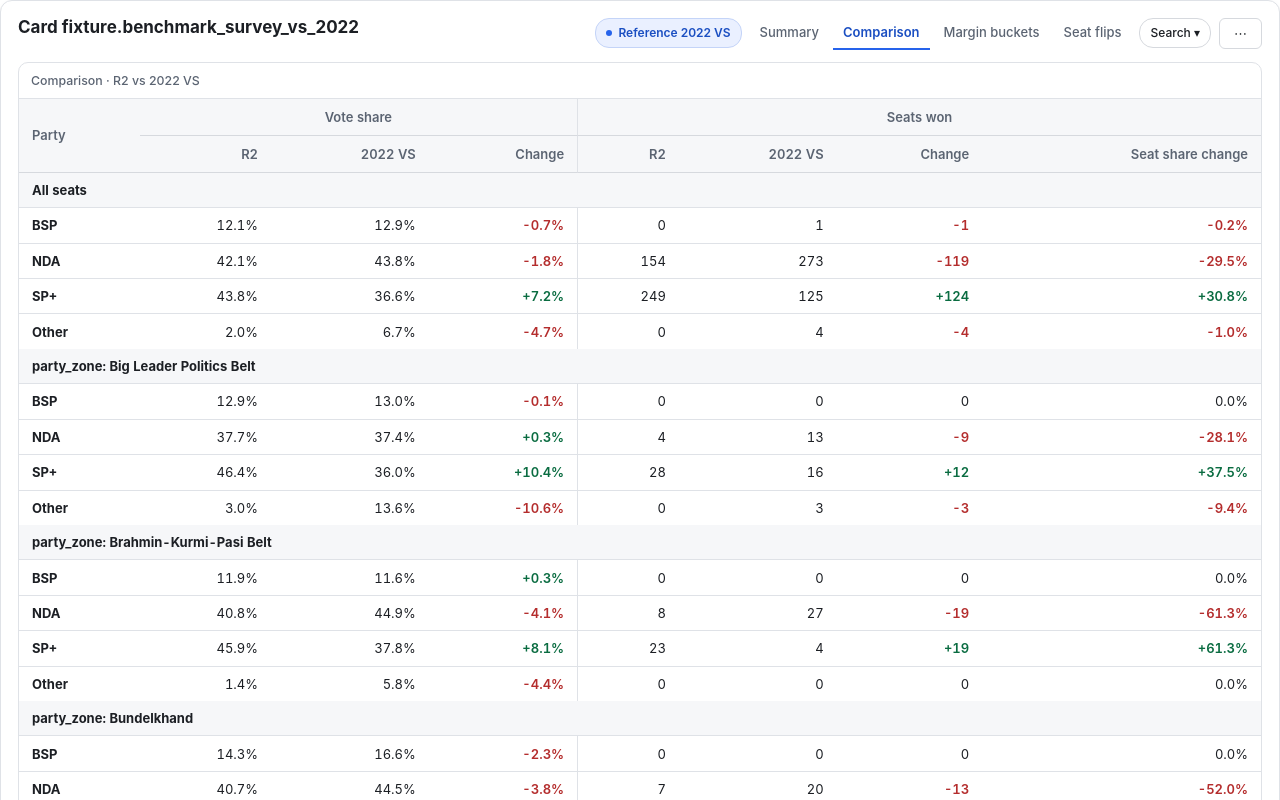
BenchmarkCard › tables › merges vote share and seats, with their changes, in one Summary cell per party, All seats first
Click the tab "Summary" at (789, 33), box [750,16,829,50]
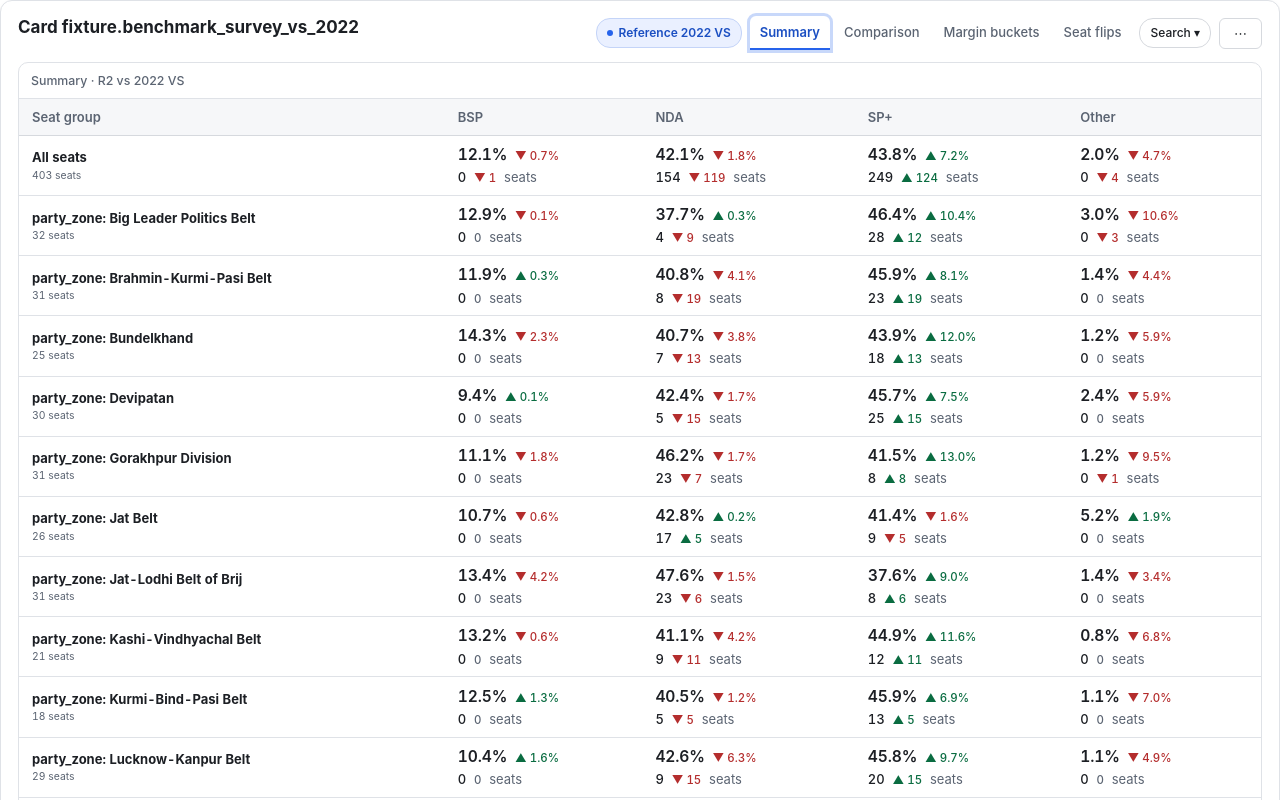
Check: the column heading "All seats 403 seats" is shown, box [19,136,445,196]
Check: the cell "42.1% ▼ 1.8% 154 ▼ 119 seats" is shown, box [642,136,855,196]
